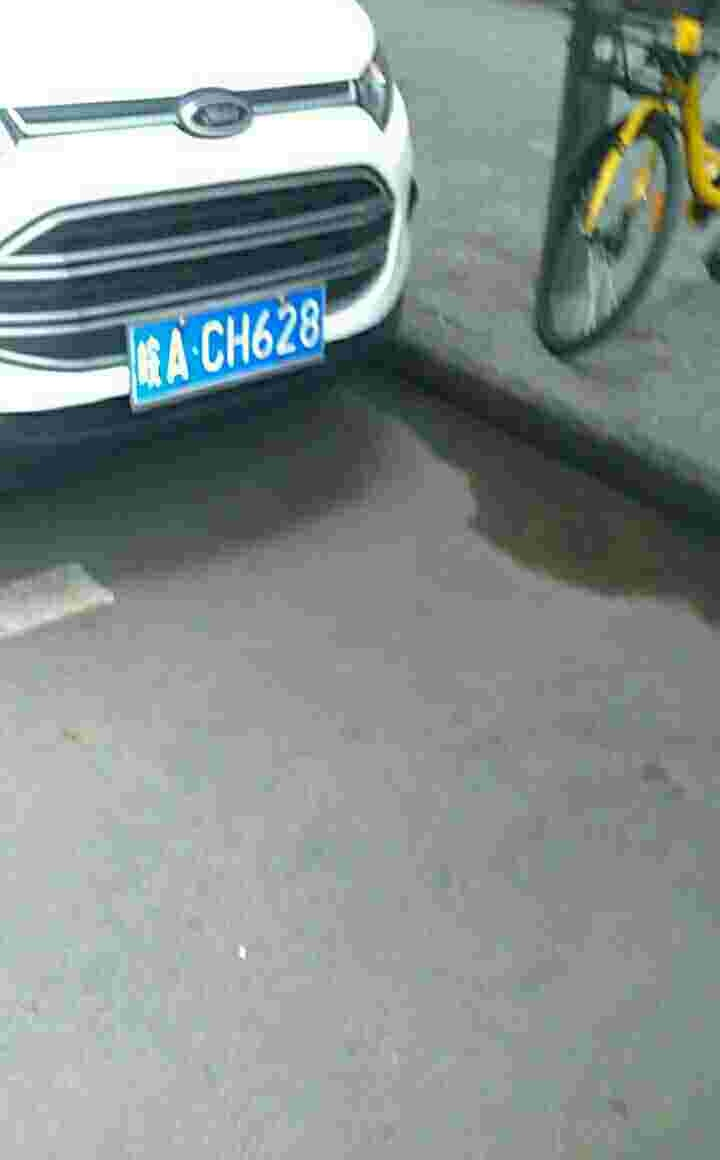license_plate: (132, 284, 331, 401)
